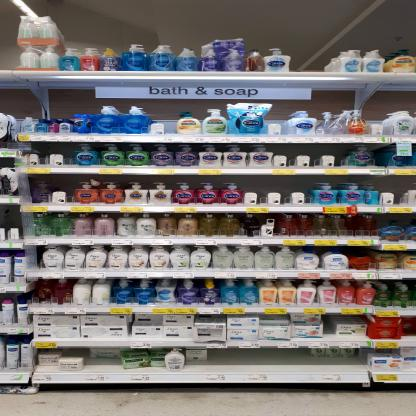Void: (210, 350, 310, 370), (248, 178, 308, 204), (276, 146, 337, 166), (1, 206, 20, 237), (312, 359, 361, 371), (50, 176, 72, 200), (381, 181, 402, 205), (268, 114, 289, 136), (88, 356, 118, 371), (154, 116, 177, 133), (324, 314, 334, 336)
